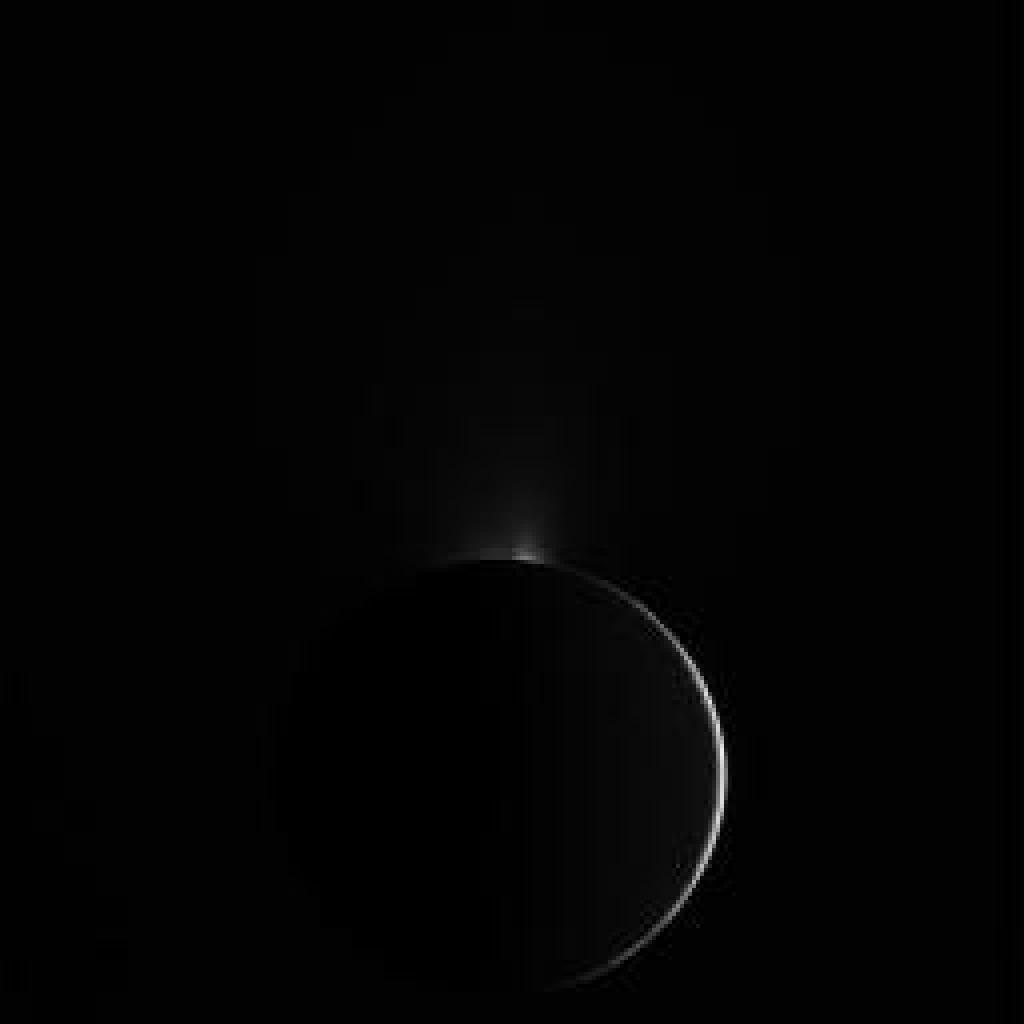plumes: (449, 470, 562, 574)
